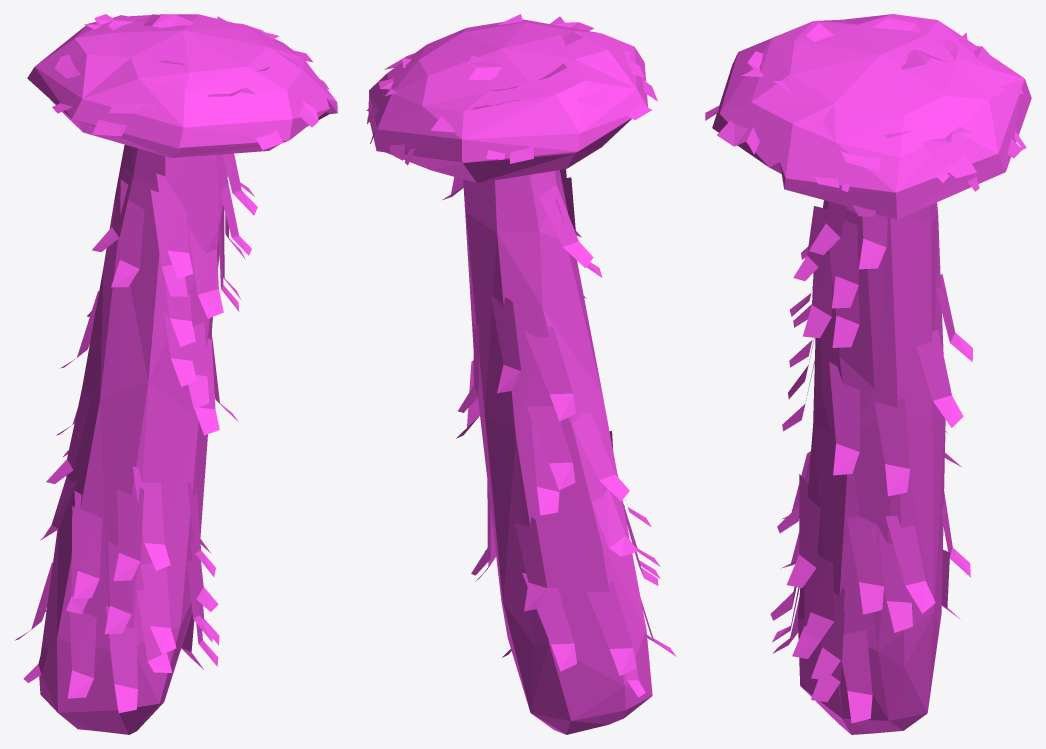
File: SM_Mushroom_Fluffy_Giant_C_Fantasy.fbx
The picture shows the model from 3 angles, left to right: view 1: azimuth 30°, elevation 25°; view 2: azimuth 150°, elevation 25°; view 3: azimuth 270°, elevation 25°; orthographic projection. The views are drawn at different scales.
Parts seen in each view (by area): view 1: SM_Mushroom_Fluffy_Giant_C_Fantasy; view 2: SM_Mushroom_Fluffy_Giant_C_Fantasy; view 3: SM_Mushroom_Fluffy_Giant_C_Fantasy.
Boxes of the visible parts, left/top/right/bottom form: SM_Mushroom_Fluffy_Giant_C_Fantasy: left=15, top=14, right=337, bottom=734; SM_Mushroom_Fluffy_Giant_C_Fantasy: left=366, top=14, right=676, bottom=734; SM_Mushroom_Fluffy_Giant_C_Fantasy: left=705, top=14, right=1031, bottom=734.
Bounding box in the file's own units: 4.41 × 10.17 × 4.2.
